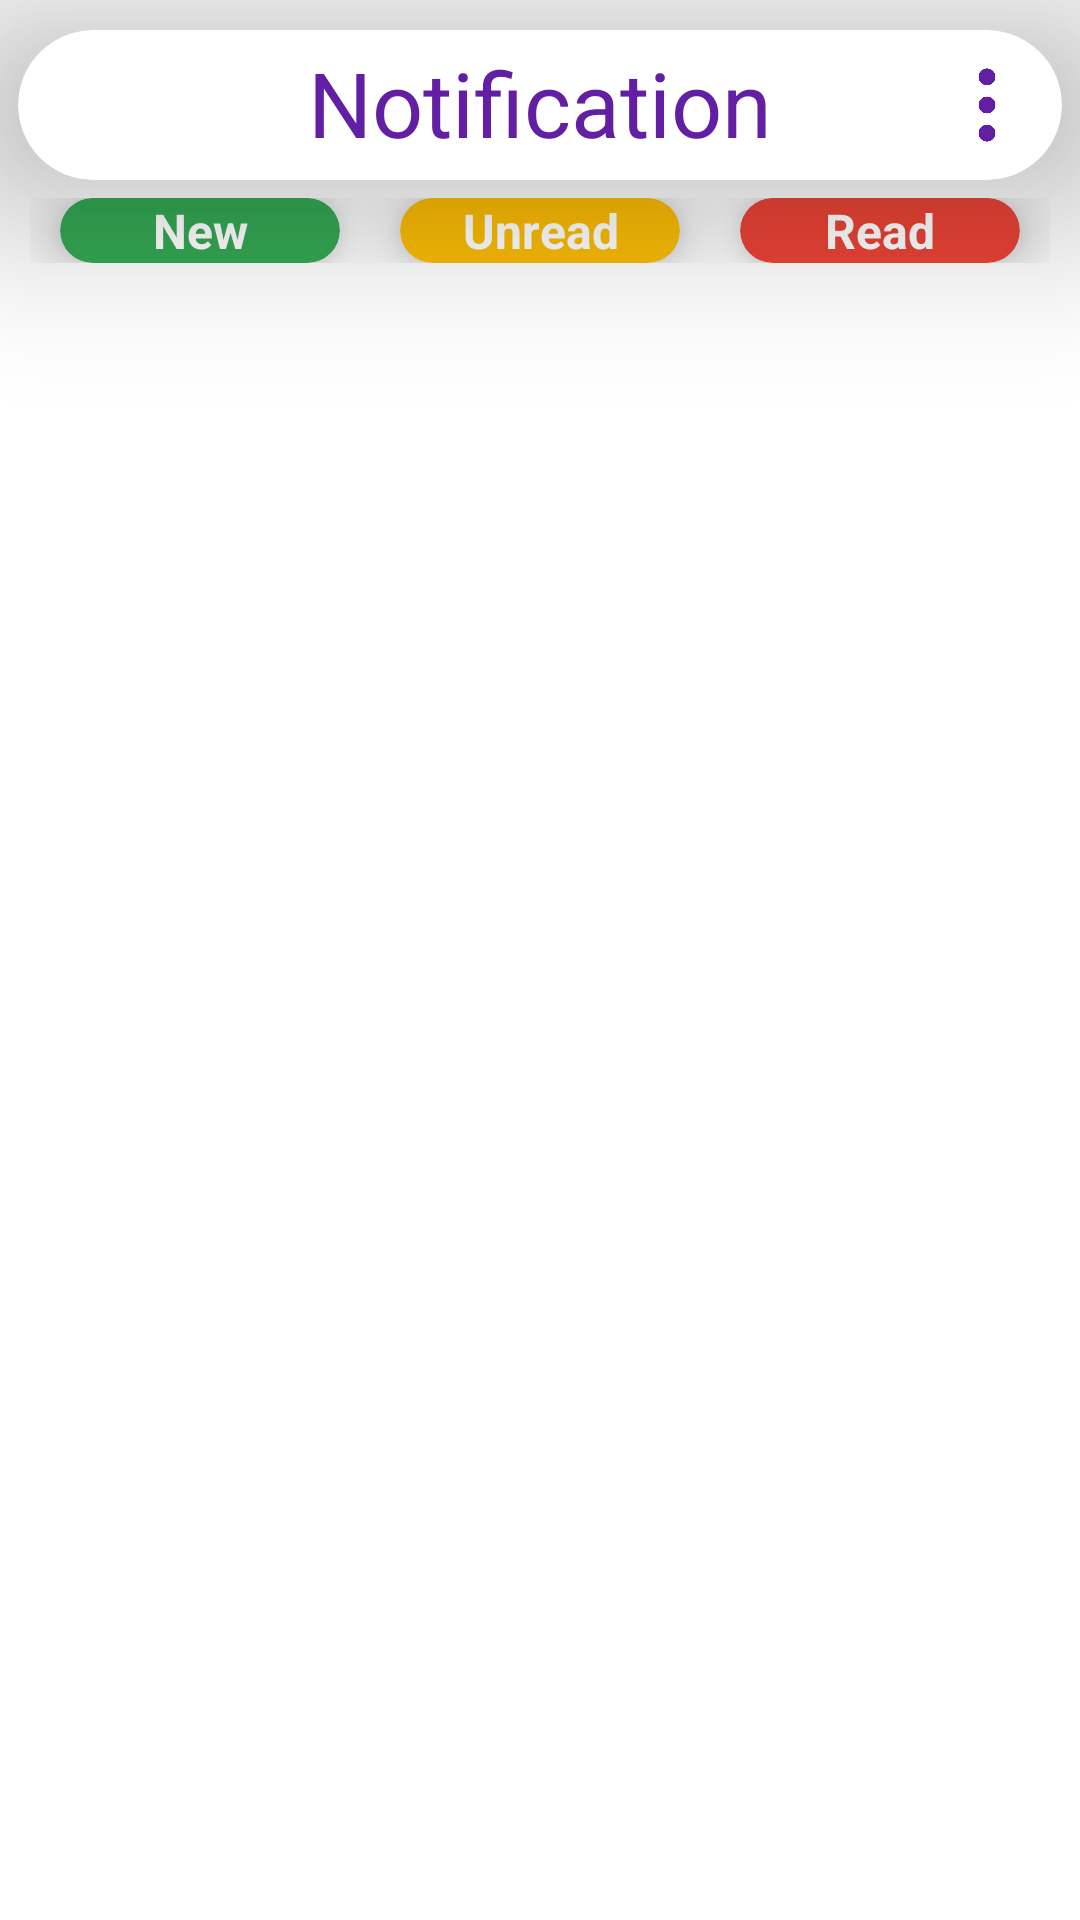

Named icons in this screenshot (1080px×1920px) and their bounding boxes, bbox=(x1, y1, x2, y2):
dots: bbox=(978, 68, 996, 142)
